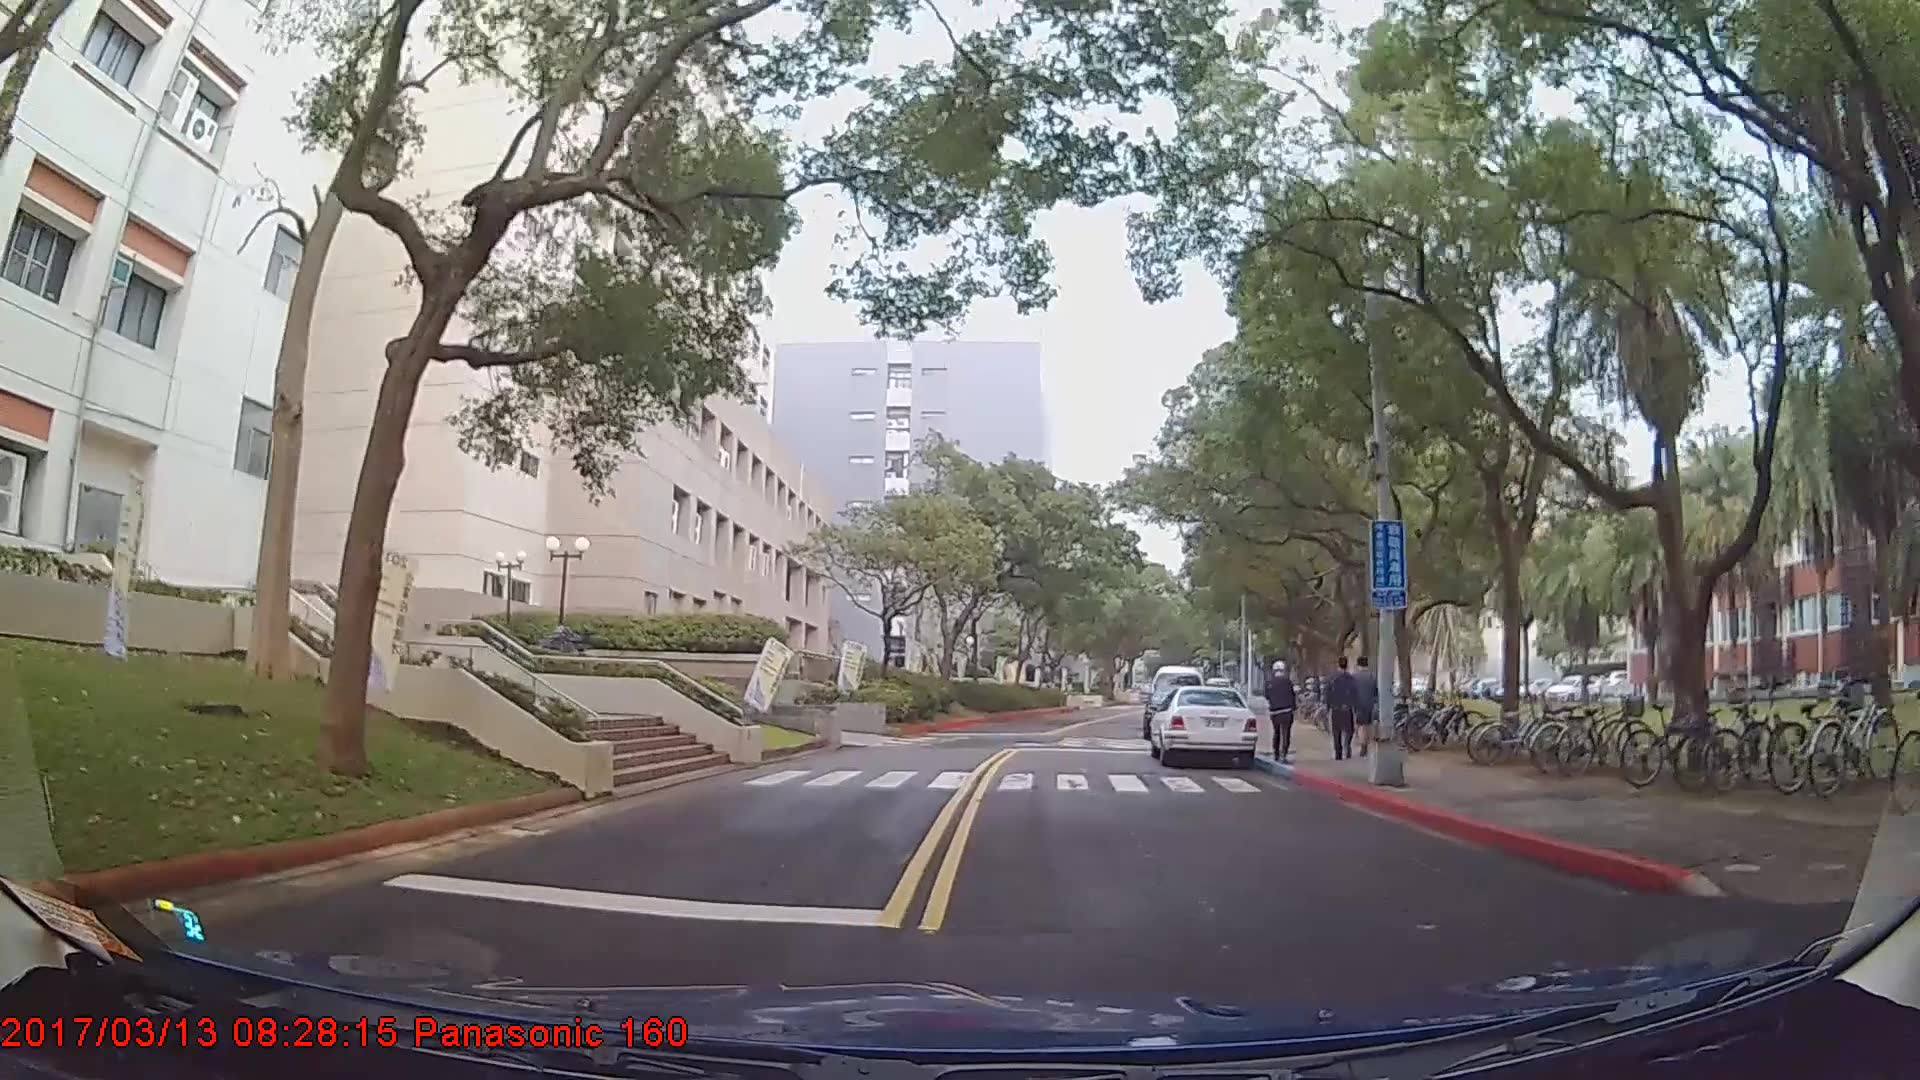pedestrian: (1329, 653, 1366, 760), (1268, 660, 1298, 764)
vehicle: (1145, 684, 1258, 765)
